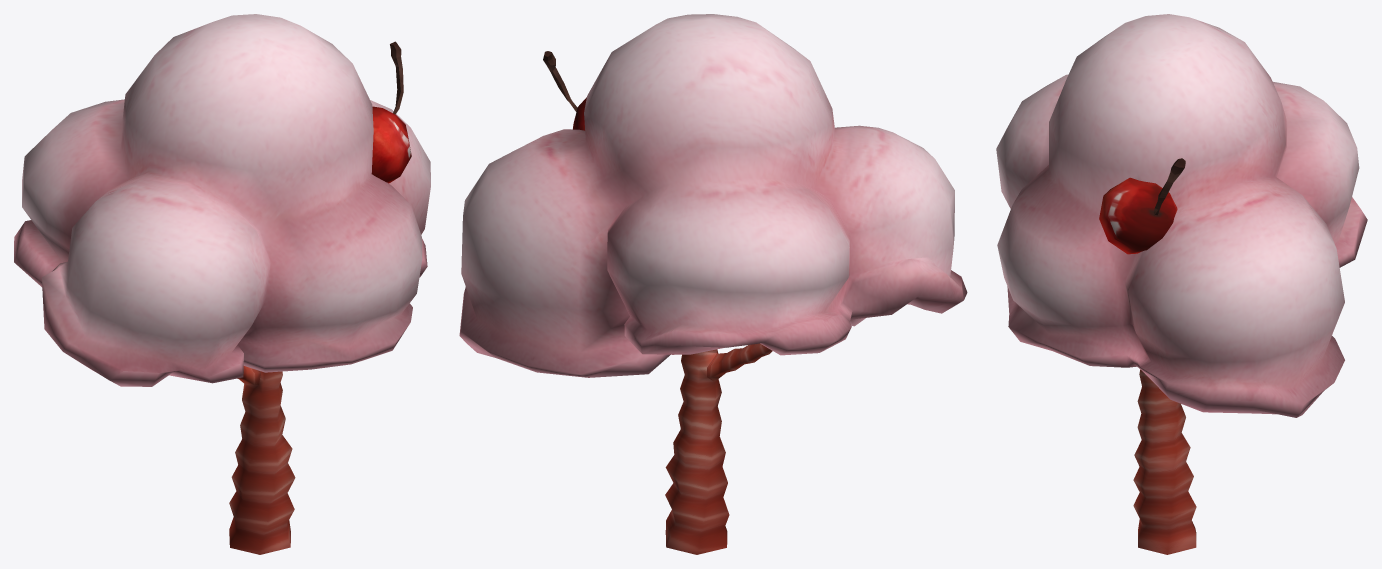
Rendered from IceCreamTree.FBX.
3 views of the same model, side by side, from view 1: azimuth 30°, elevation 25°; view 2: azimuth 150°, elevation 25°; view 3: azimuth 270°, elevation 25° (orthographic). The views are drawn at different scales.
Parts seen in each view (by area): view 1: IceCreamTree; view 2: IceCreamTree; view 3: IceCreamTree.
Boxes of the visible parts, bbox=[...] form: IceCreamTree: bbox=[14, 14, 430, 554]; IceCreamTree: bbox=[459, 14, 967, 554]; IceCreamTree: bbox=[996, 14, 1367, 554].
Size of the model in its own units: 92.93 by 108 by 71.85.
